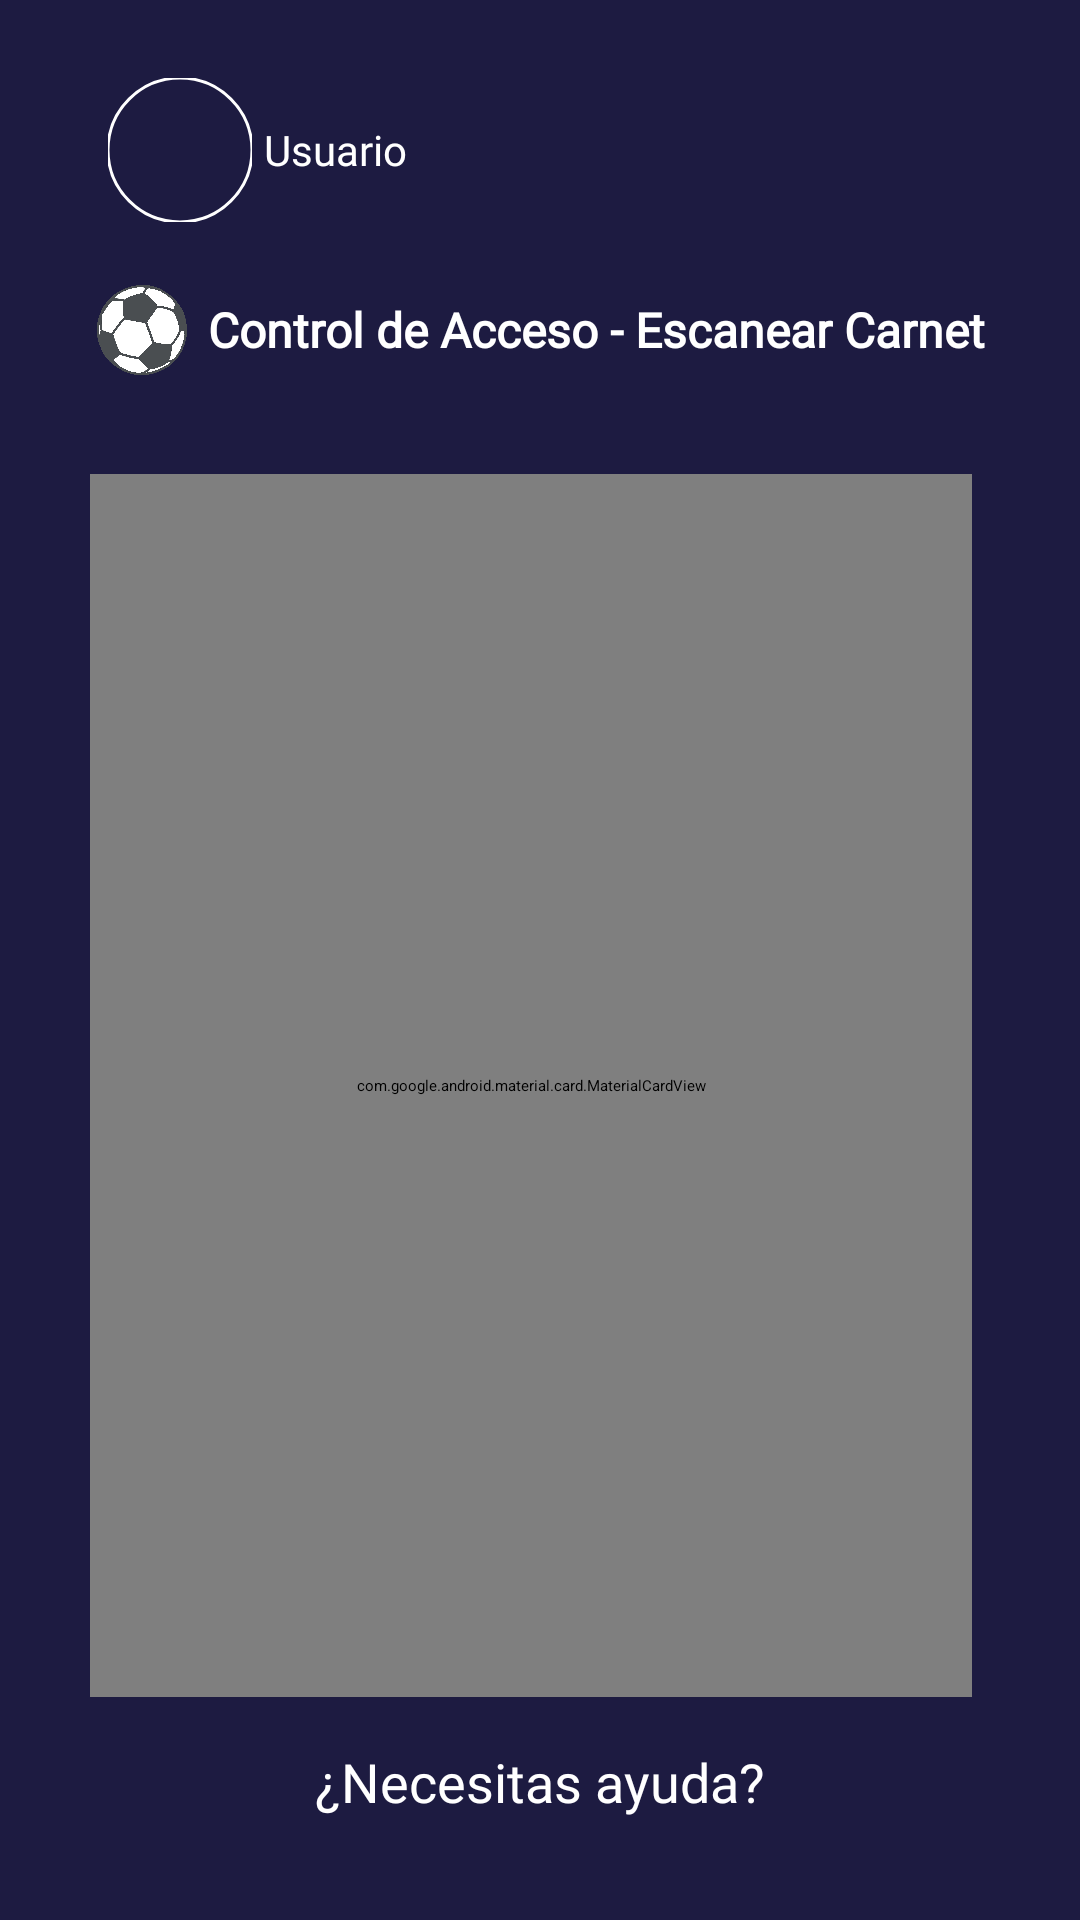

Where to tap for icons on this 1080 × 1920 app screen, as [x,y]:
soccer ball: [142,330]
